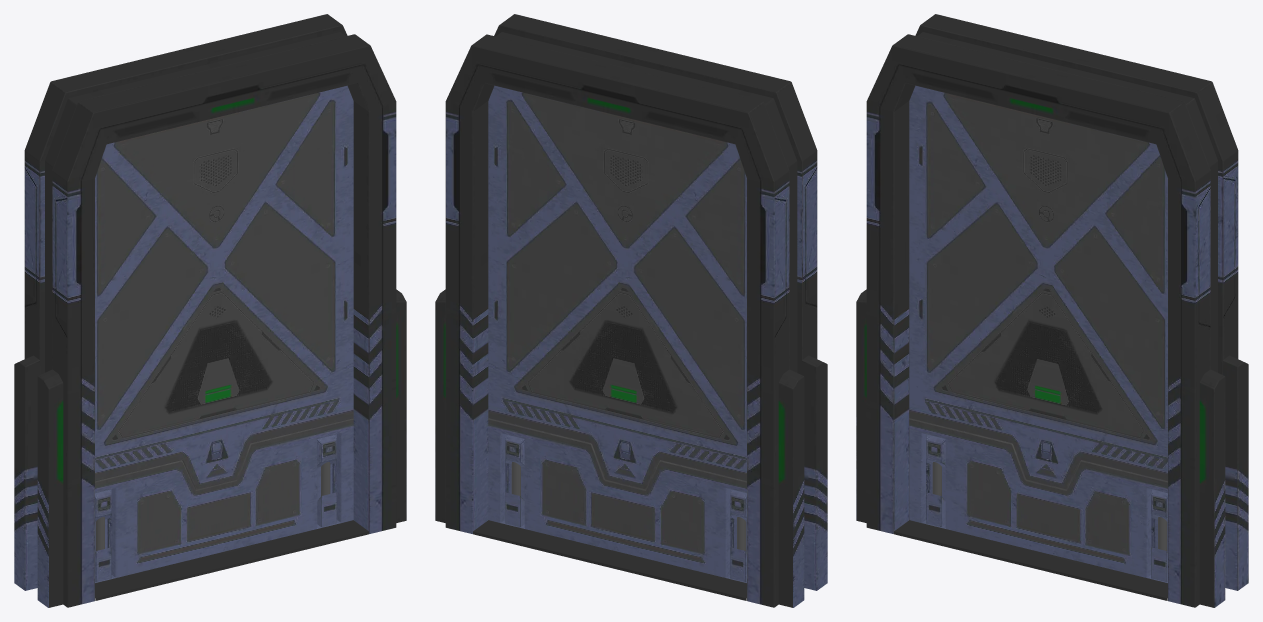
File: door.glb
3 renders of one model, left to right at view 1: azimuth 30°, elevation 25°; view 2: azimuth 150°, elevation 25°; view 3: azimuth 330°, elevation 25°, orthographic.
Visible parts, largest first — view 1: mScifi_Door01Up_M_door01_Dark_0, mScifi_Door01Frame_M_door01Frame_Dark_0, mScifi_Door01Down_M_door01_Dark_0, mScifi_Door01lock_down_1_M_door01_Dark_0; view 2: mScifi_Door01Up_M_door01_Dark_0, mScifi_Door01Frame_M_door01Frame_Dark_0, mScifi_Door01Down_M_door01_Dark_0, mScifi_Door01lock_down_1_M_door01_Dark_0; view 3: mScifi_Door01Up_M_door01_Dark_0, mScifi_Door01Frame_M_door01Frame_Dark_0, mScifi_Door01Down_M_door01_Dark_0, mScifi_Door01lock_down_1_M_door01_Dark_0.
Boxes of the visible parts, box(x1,y1,x2,y2) form: mScifi_Door01Up_M_door01_Dark_0: box(95, 85, 353, 489); mScifi_Door01Frame_M_door01Frame_Dark_0: box(14, 14, 406, 607); mScifi_Door01Down_M_door01_Dark_0: box(95, 418, 353, 582); mScifi_Door01lock_down_1_M_door01_Dark_0: box(95, 492, 336, 581); mScifi_Door01Up_M_door01_Dark_0: box(488, 85, 746, 489); mScifi_Door01Frame_M_door01Frame_Dark_0: box(435, 14, 827, 607); mScifi_Door01Down_M_door01_Dark_0: box(488, 418, 746, 582); mScifi_Door01lock_down_1_M_door01_Dark_0: box(505, 492, 746, 581); mScifi_Door01Up_M_door01_Dark_0: box(909, 85, 1167, 489); mScifi_Door01Frame_M_door01Frame_Dark_0: box(856, 14, 1248, 607); mScifi_Door01Down_M_door01_Dark_0: box(909, 418, 1167, 582); mScifi_Door01lock_down_1_M_door01_Dark_0: box(926, 492, 1167, 581).
Bounding box in the file's own units: 2.02 × 2.62 × 0.4226.
Materials: 2 (2 with a texture image).
